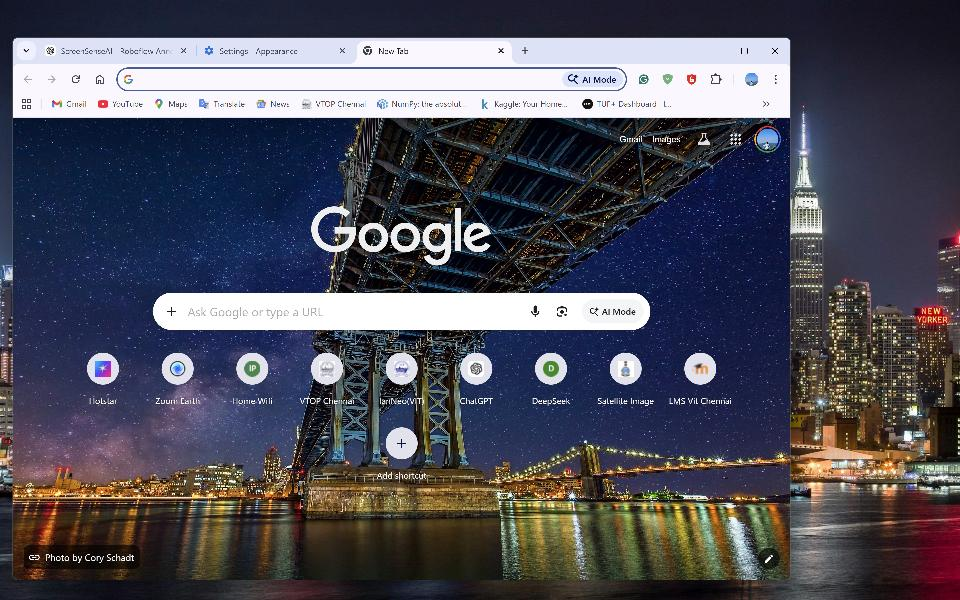close_button: (764, 41, 786, 60)
maximize_button: (734, 40, 755, 62)
minimize_button: (705, 42, 724, 61)
